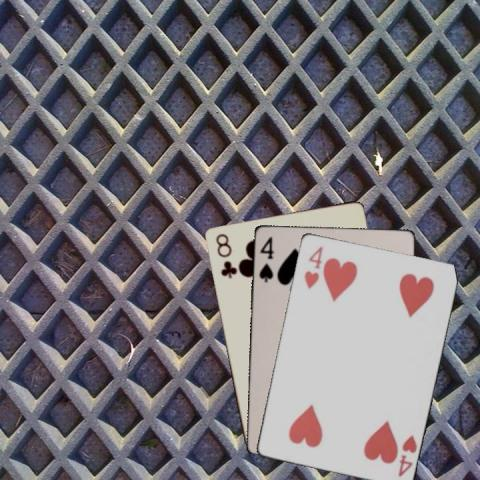4h: (301, 243, 324, 290), (395, 432, 418, 478)
4s: (256, 233, 275, 283)
8c: (212, 230, 237, 279)
